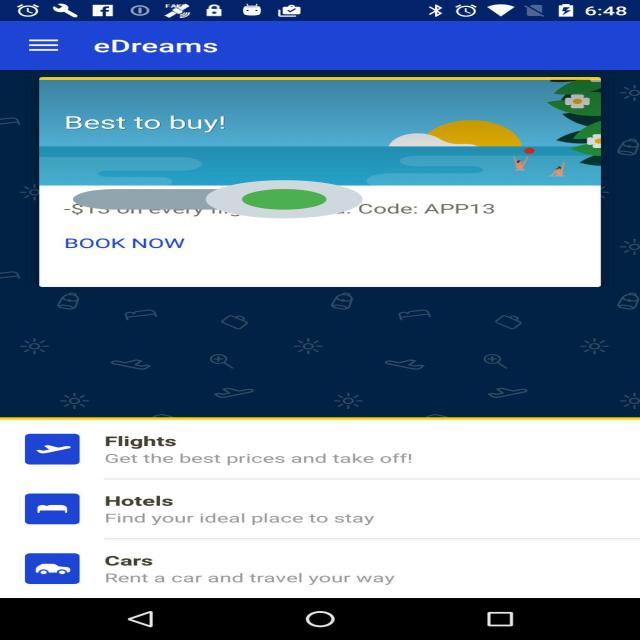social proof: (73, 164, 363, 235)
